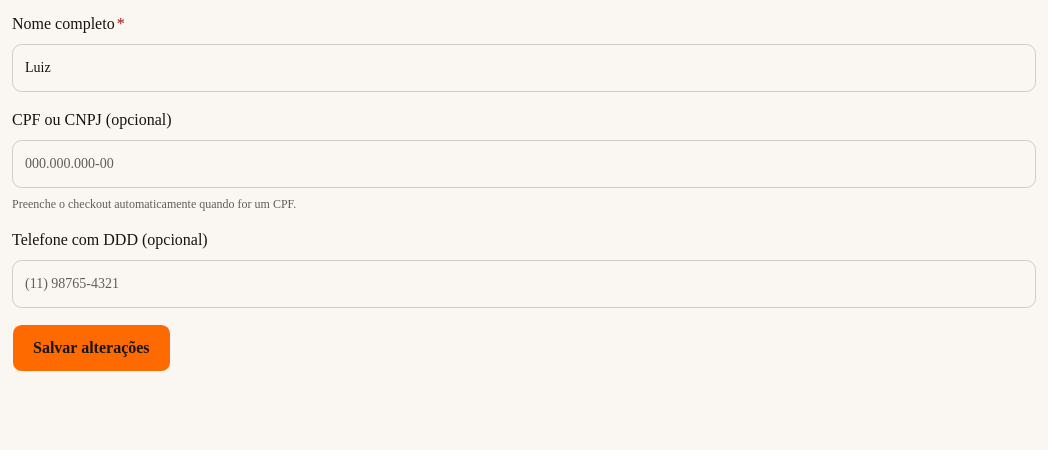
stops and shows the error when the name cannot be saved
The image size is (1048, 450).
Replace the text in the field labelled "Nome completo*" with "Luiz Carlos": coordinates (524, 68) x1=12 y1=44 x2=1036 y2=92
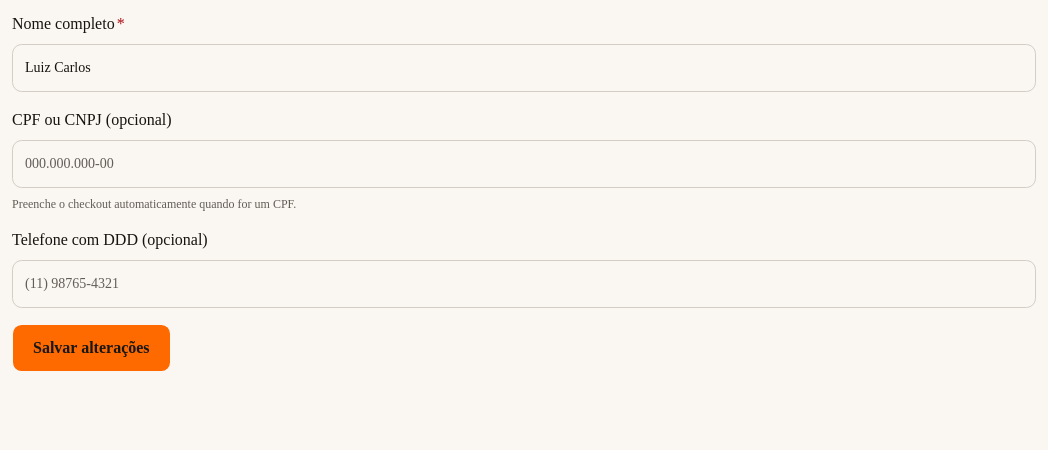
Click the button "Salvar alterações": coordinates (91, 348) x1=12 y1=324 x2=171 y2=372
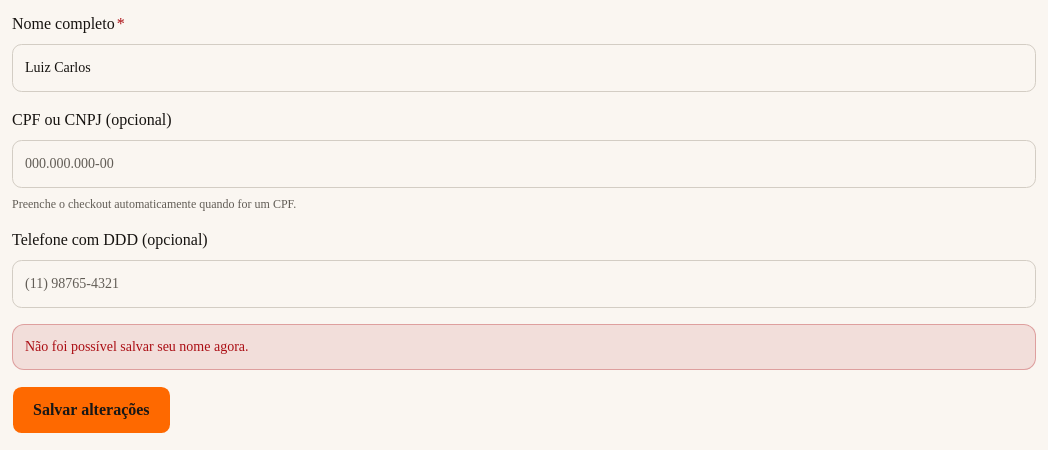
Now the message reads "Não foi possível salvar seu nome agora.", box x1=25 y1=339 x2=249 y2=354
